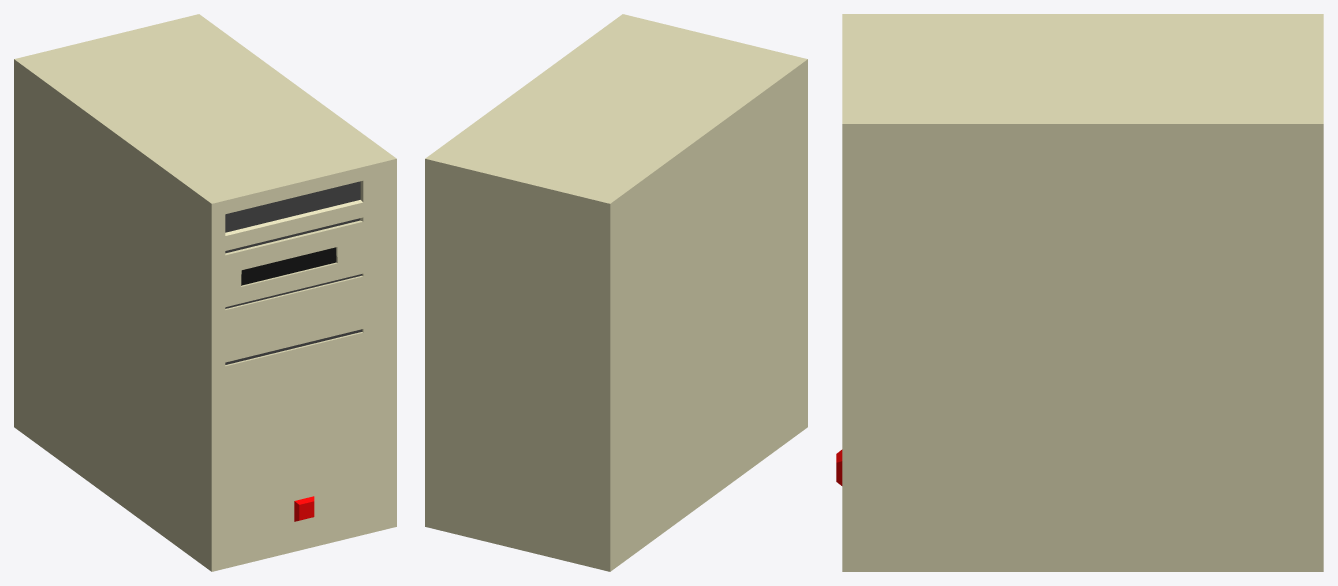
File: Computer_3A.fbx
3 views of the same model, side by side, from view 1: azimuth 30°, elevation 25°; view 2: azimuth 150°, elevation 25°; view 3: azimuth 270°, elevation 25° (orthographic). The views are drawn at different scales.
Visible parts, largest first — view 1: polySurface1845; view 2: polySurface1845; view 3: polySurface1845.
Part boxes in pixels (x1,y1,x2,y2): polySurface1845: (14, 14, 396, 571); polySurface1845: (425, 14, 807, 571); polySurface1845: (836, 14, 1323, 571).
Bounding box in the file's own units: 0.2 × 0.38 × 0.3747.
Materials: 1 (1 with a texture image).
